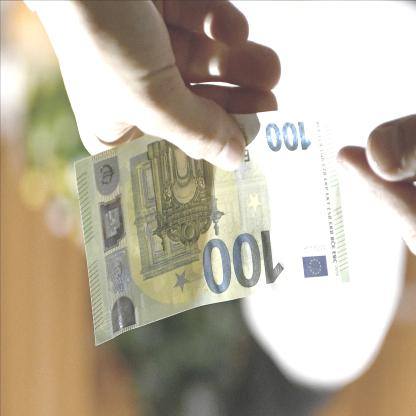euro_banknote: (69, 123, 351, 318)
